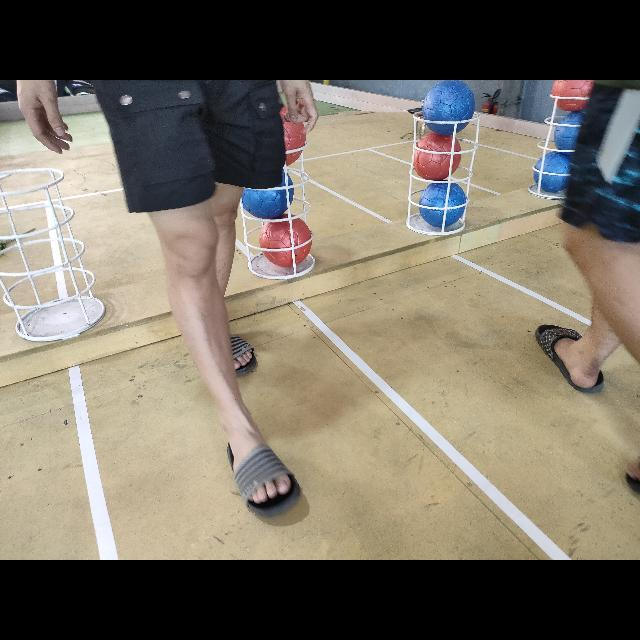B: (419, 182, 466, 230)
R: (259, 214, 313, 268), (412, 131, 462, 181)
